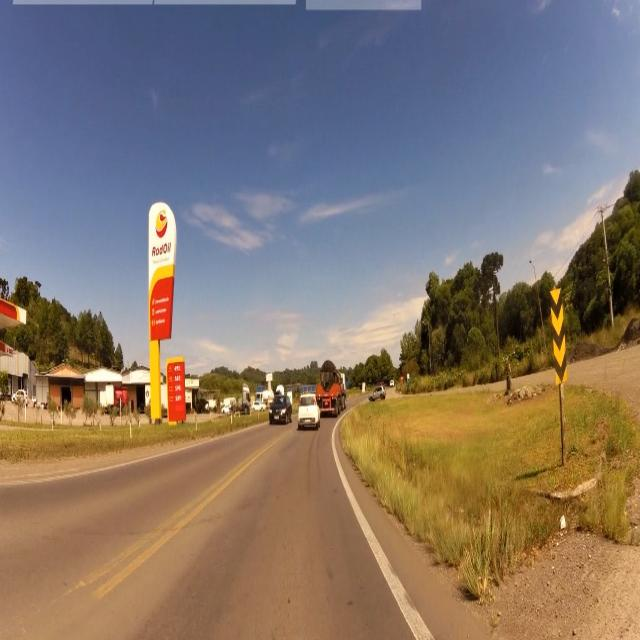MP: (546, 288, 570, 386)
